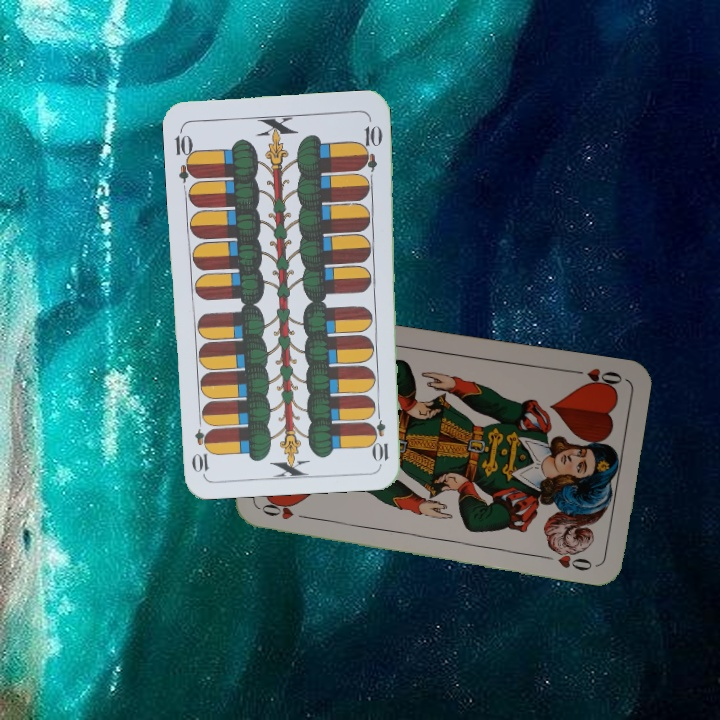E10: (171, 125, 199, 184), (371, 405, 392, 464)
HO: (567, 364, 625, 392), (253, 500, 312, 523)
